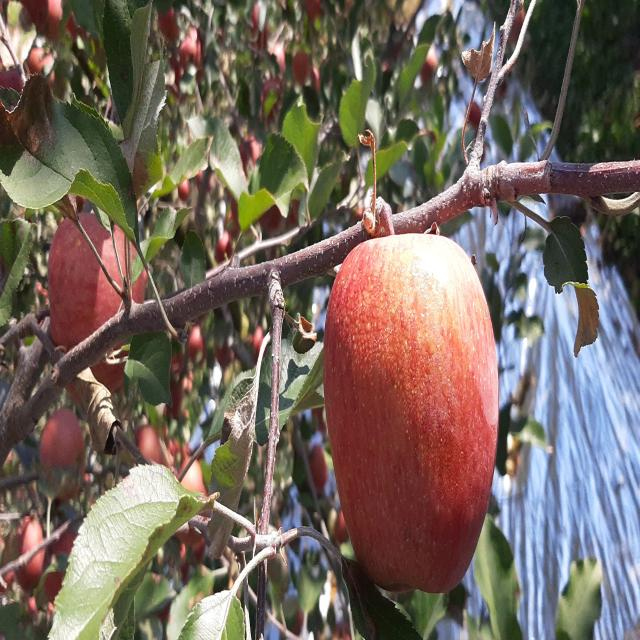fresh: (319, 223, 507, 602)
